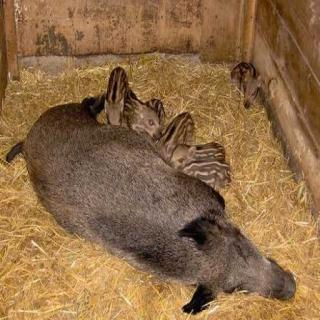Pig: (43, 91, 304, 308), (89, 60, 128, 140), (169, 138, 229, 168), (124, 96, 160, 140)
